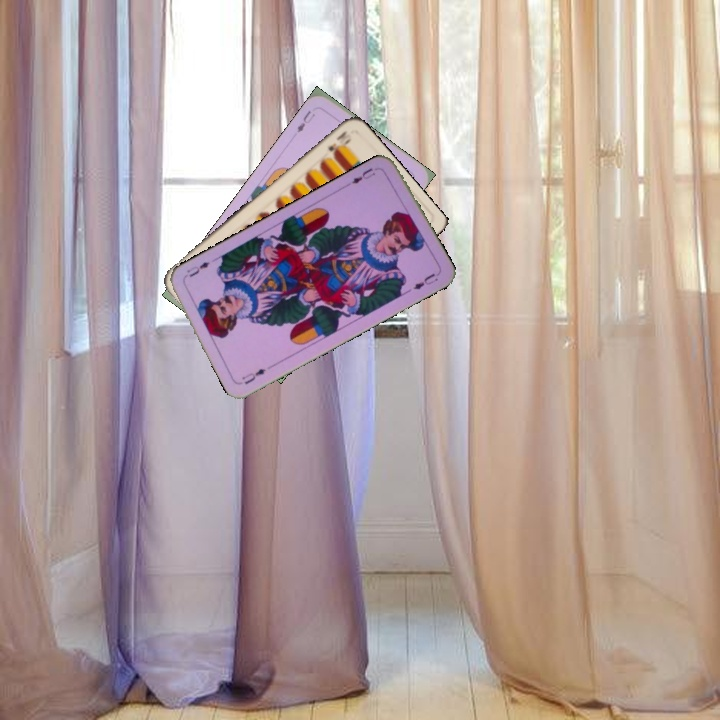E10: (324, 126, 354, 158)
EU: (344, 163, 381, 188), (293, 106, 318, 135), (238, 364, 268, 387)
